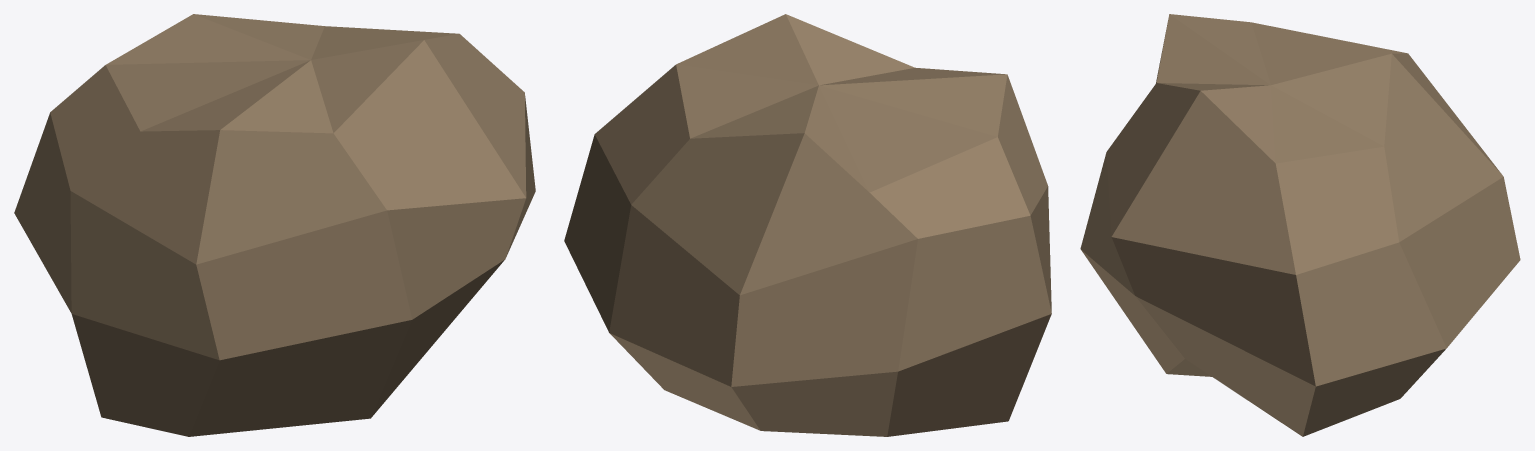
File: rock_b.glb
3 renders of one model, left to right at view 1: azimuth 30°, elevation 25°; view 2: azimuth 150°, elevation 25°; view 3: azimuth 270°, elevation 25°, orthographic. The views are drawn at different scales.
Parts seen in each view (by area): view 1: rock_b; view 2: rock_b; view 3: rock_b.
Boxes of the visible parts, box(x1,y1,x2,y2) form: rock_b: box(14, 14, 535, 436); rock_b: box(564, 14, 1051, 436); rock_b: box(1080, 14, 1520, 436).
Size of the model in its own units: 1.45 by 0.9906 by 1.23.
